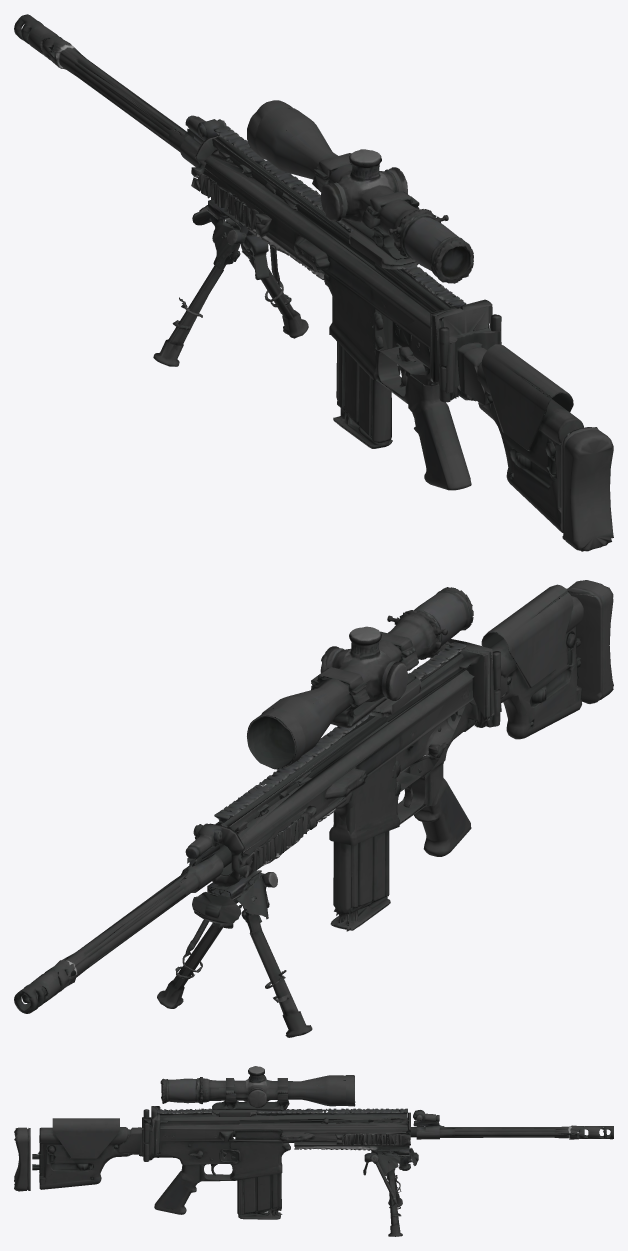
The model's file is scar20.glb.
3 views of the same model, one above another, from view 1: azimuth 30°, elevation 25°; view 2: azimuth 150°, elevation 25°; view 3: azimuth 270°, elevation 25° (orthographic). The views are drawn at different scales.
Visible parts, largest first — view 1: govde; view 2: govde; view 3: govde.
Part boxes in pixels (x1,y1,x2,y2): govde: (14, 14, 613, 551); govde: (14, 580, 613, 1037); govde: (14, 1066, 613, 1236).
Size of the model in its own units: 0.1638 by 0.3008 by 1.07.
Materials: 1 (1 with a texture image).
